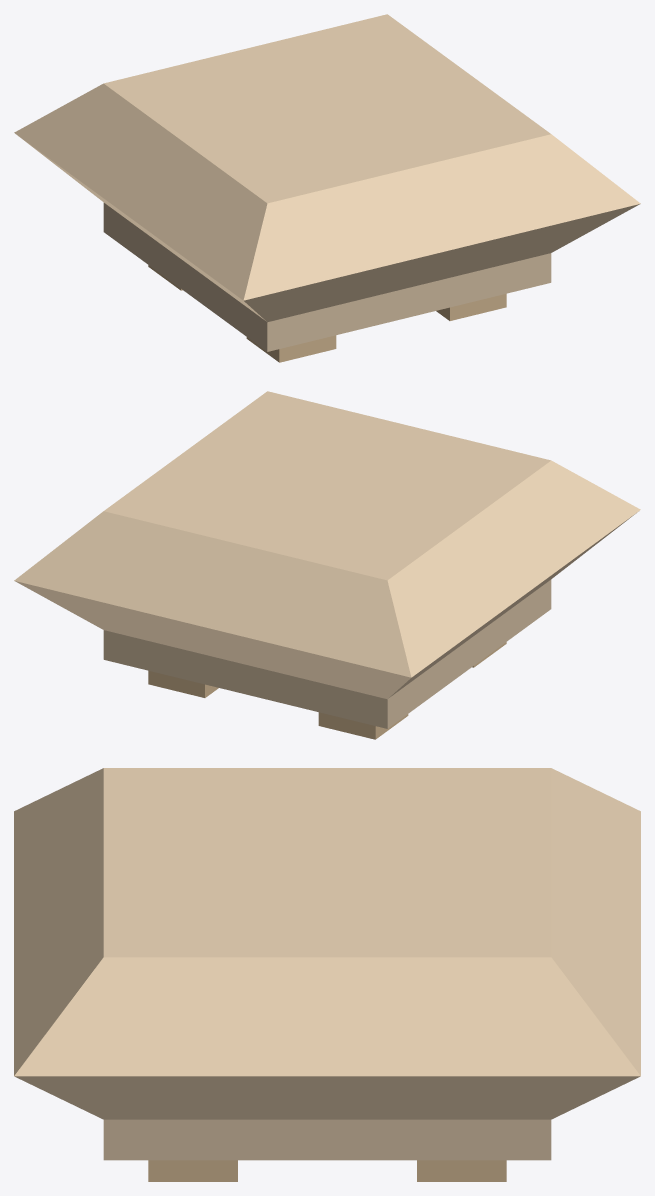
The model's file is Puzzle_Sliding_Base.glb.
3 renders of one model, top to bottom at view 1: azimuth 30°, elevation 25°; view 2: azimuth 150°, elevation 25°; view 3: azimuth 270°, elevation 25°, orthographic. The views are drawn at different scales.
Visible parts, largest first — view 1: Puzzle_Sliding_Base; view 2: Puzzle_Sliding_Base; view 3: Puzzle_Sliding_Base.
Part boxes in pixels (x1,y1,x2,y2): Puzzle_Sliding_Base: [14, 14, 640, 362]; Puzzle_Sliding_Base: [14, 391, 640, 739]; Puzzle_Sliding_Base: [14, 768, 640, 1181].
Size of the model in its own units: 0.7 by 0.3 by 0.7.
